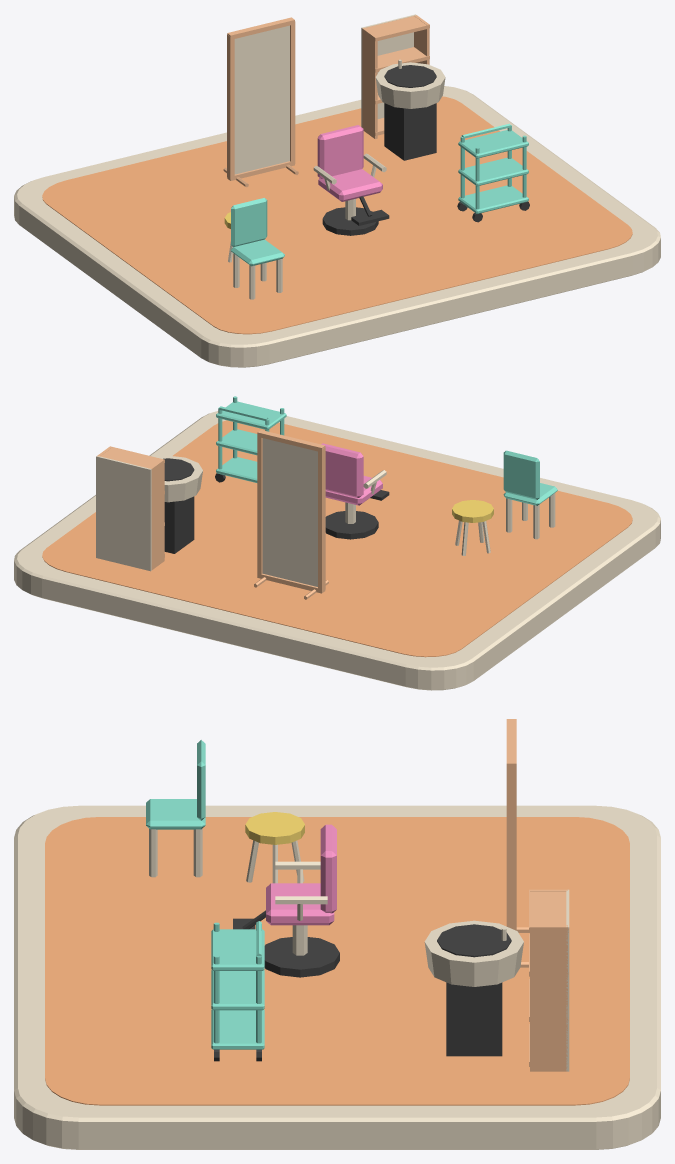
The picture shows the model from 3 angles, top to bottom: view 1: azimuth 30°, elevation 25°; view 2: azimuth 150°, elevation 25°; view 3: azimuth 270°, elevation 25°; orthographic projection. The views are drawn at different scales.
Parts seen in each view (by area): view 1: COM-02 Floor Surface, COM-01 Rounded Base Direct, Mirror face, Pedestal, Back, Bowl, Backrest, Side, Seat, Tray.002, Tray.001, Frame (+9 smaller); view 2: COM-02 Floor Surface, COM-01 Rounded Base Direct, Mirror face, Back.001, Back, Backrest, Pedestal, Side, Base, Frame, Bowl, Tray.002 (+9 smaller); view 3: COM-02 Floor Surface, COM-01 Rounded Base Direct, Side.001, Pedestal, Bowl, Base, Seat, Tray.002, Inset, Frame.001, Tray, Tray.001 (+6 smaller).
Boxes of the visible parts, x1=… form: COM-02 Floor Surface: x1=42, y1=96, x2=632, y2=334; COM-01 Rounded Base Direct: x1=14, y1=86, x2=660, y2=367; Mirror face: x1=234, y1=25, x2=289, y2=174; Pedestal: x1=384, y1=103, x2=436, y2=160; Back: x1=317, y1=125, x2=363, y2=178; Bowl: x1=375, y1=62, x2=445, y2=108; Backrest: x1=231, y1=198, x2=267, y2=246; Side: x1=362, y1=27, x2=377, y2=138; Seat: x1=318, y1=169, x2=382, y2=201; Tray.002: x1=458, y1=130, x2=528, y2=158; Tray.001: x1=458, y1=157, x2=528, y2=186; Frame: x1=227, y1=34, x2=234, y2=179; COM-02 Floor Surface: x1=42, y1=420, x2=632, y2=657; COM-01 Rounded Base Direct: x1=14, y1=411, x2=660, y2=690; Mirror face: x1=262, y1=438, x2=317, y2=586; Back.001: x1=96, y1=456, x2=151, y2=571; Back: x1=321, y1=443, x2=363, y2=497; Backrest: x1=503, y1=450, x2=539, y2=499; Pedestal: x1=164, y1=496, x2=194, y2=553; Side: x1=149, y1=459, x2=164, y2=569; Base: x1=325, y1=511, x2=378, y2=539; Frame: x1=318, y1=447, x2=325, y2=591; Bowl: x1=155, y1=455, x2=202, y2=502; Tray.002: x1=216, y1=401, x2=286, y2=430; COM-02 Floor Surface: x1=45, y1=817, x2=629, y2=1105; COM-01 Rounded Base Direct: x1=14, y1=805, x2=660, y2=1149; Side.001: x1=530, y1=925, x2=567, y2=1071; Pedestal: x1=446, y1=982, x2=502, y2=1056; Bowl: x1=424, y1=920, x2=523, y2=986; Base: x1=264, y1=937, x2=339, y2=977; Seat: x1=266, y1=883, x2=334, y2=925; Tray.002: x1=211, y1=929, x2=264, y2=970; Inset: x1=437, y1=924, x2=511, y2=957; Frame.001: x1=506, y1=765, x2=516, y2=930; Tray: x1=211, y1=1009, x2=264, y2=1049; Tray.001: x1=211, y1=970, x2=264, y2=1010.
Bounding box in the file's own units: 6 × 2.15 × 5.2.
1 material, 1 textured.
